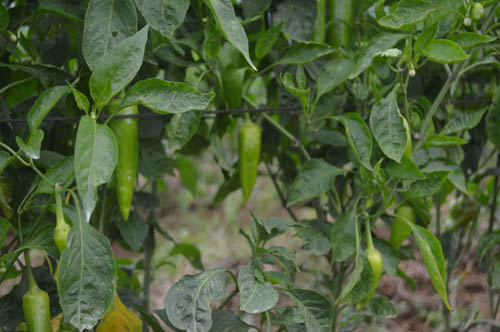ChiliPepper: (105, 100, 140, 218), (232, 124, 260, 202), (356, 249, 383, 302), (17, 290, 54, 328), (331, 5, 354, 60), (390, 203, 415, 252)
